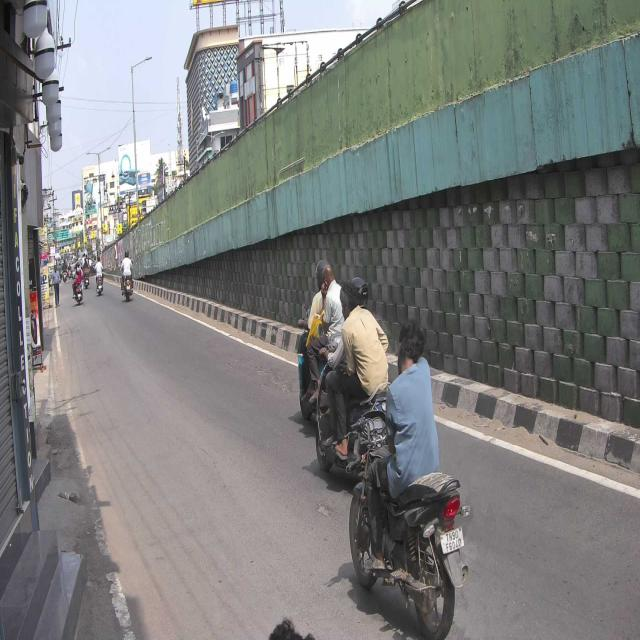single_rider: (348, 321, 473, 640)
